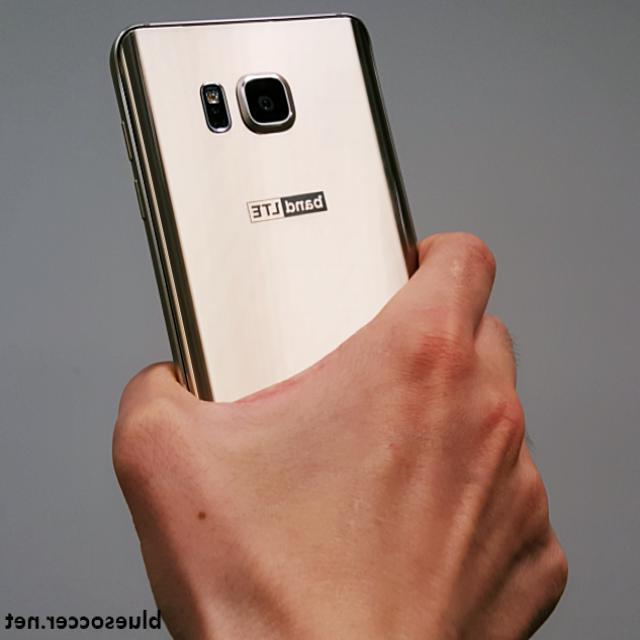mobile: (112, 13, 419, 401)
